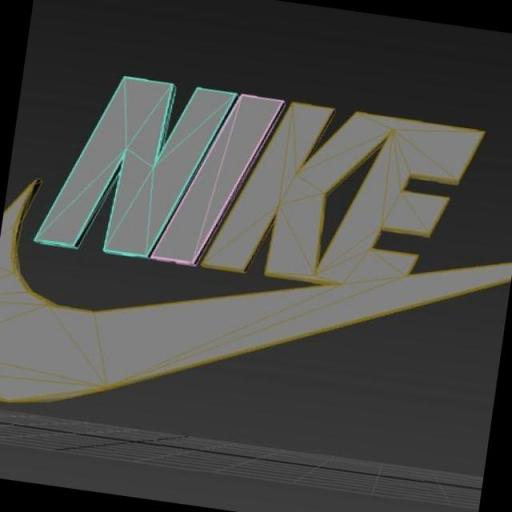Nike: (34, 64, 490, 306)
